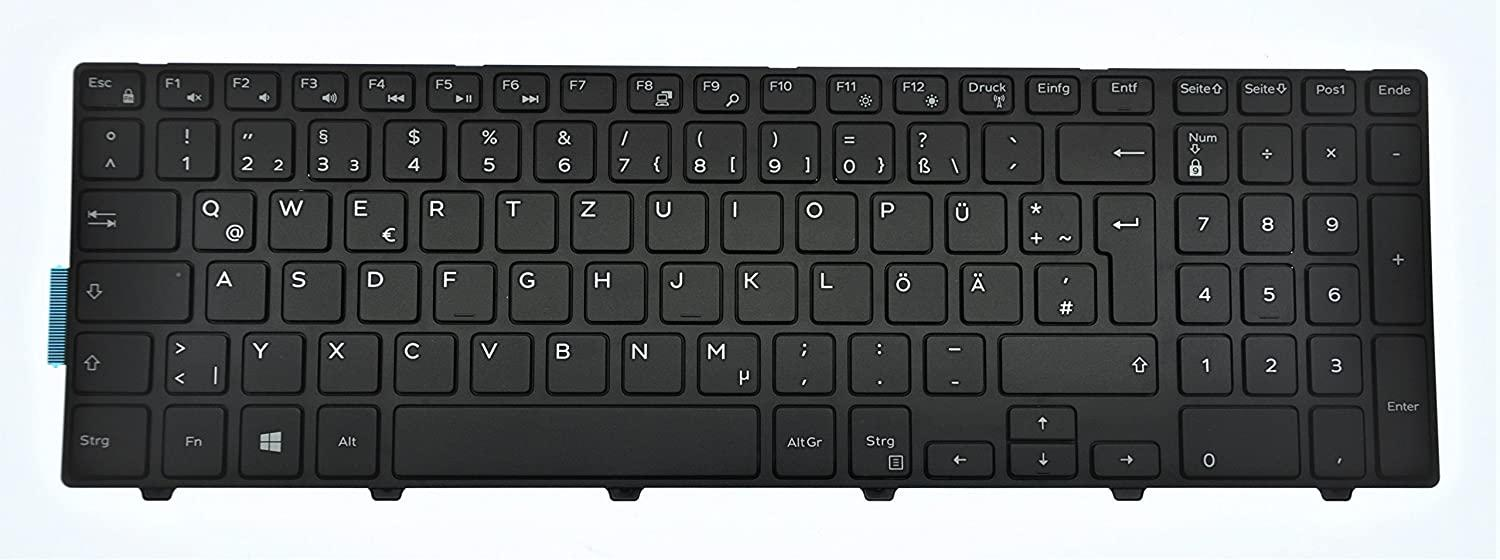0: (828, 118, 894, 183)
1: (152, 115, 217, 178)
2: (228, 115, 294, 180)
3: (302, 115, 369, 181)
4: (380, 115, 445, 179)
5: (455, 116, 521, 180)
6: (530, 116, 597, 180)
7: (606, 118, 670, 181)
8: (679, 118, 744, 182)
9: (754, 118, 820, 182)
a: (202, 257, 267, 321)
accent: (979, 119, 1042, 181)
ae: (957, 259, 1022, 323)
alt-left: (313, 401, 379, 477)
altgr-right: (770, 401, 835, 477)
b: (541, 329, 608, 393)
c: (390, 328, 456, 393)
caret: (78, 115, 141, 177)
comma: (770, 328, 835, 392)
d: (354, 258, 419, 322)
del: (1053, 118, 1154, 182)
e: (341, 186, 406, 252)
enter: (1091, 188, 1155, 323)
f: (430, 258, 494, 321)
g: (505, 258, 569, 322)
h: (581, 258, 646, 322)
hash: (1031, 258, 1095, 322)
i: (718, 188, 782, 253)
j: (656, 258, 721, 322)
k: (732, 258, 798, 323)
keyboard: (61, 60, 1446, 493)
l: (807, 258, 871, 323)
less: (162, 327, 228, 394)
m: (693, 329, 760, 394)
minus: (920, 329, 985, 392)
n: (618, 329, 684, 394)
o: (791, 188, 856, 252)
oe: (881, 258, 946, 323)
p: (867, 188, 931, 252)
plus: (1016, 188, 1081, 253)
point: (845, 328, 911, 392)
q: (187, 186, 255, 251)
r: (416, 187, 481, 251)
s: (277, 257, 343, 322)
shift-left: (68, 327, 148, 393)
shift-lock: (72, 255, 192, 321)
shift-right: (995, 328, 1157, 393)
space: (393, 399, 757, 478)
ss: (903, 119, 968, 183)
strg-left: (61, 399, 147, 480)
strg-right: (845, 401, 911, 477)
t: (492, 187, 556, 252)
tab: (75, 183, 176, 249)
u: (641, 187, 708, 253)
ue: (940, 188, 1006, 253)
v: (467, 329, 532, 393)
w: (264, 186, 330, 251)
x: (314, 328, 380, 393)
y: (239, 328, 304, 393)
z: (567, 187, 632, 252)
